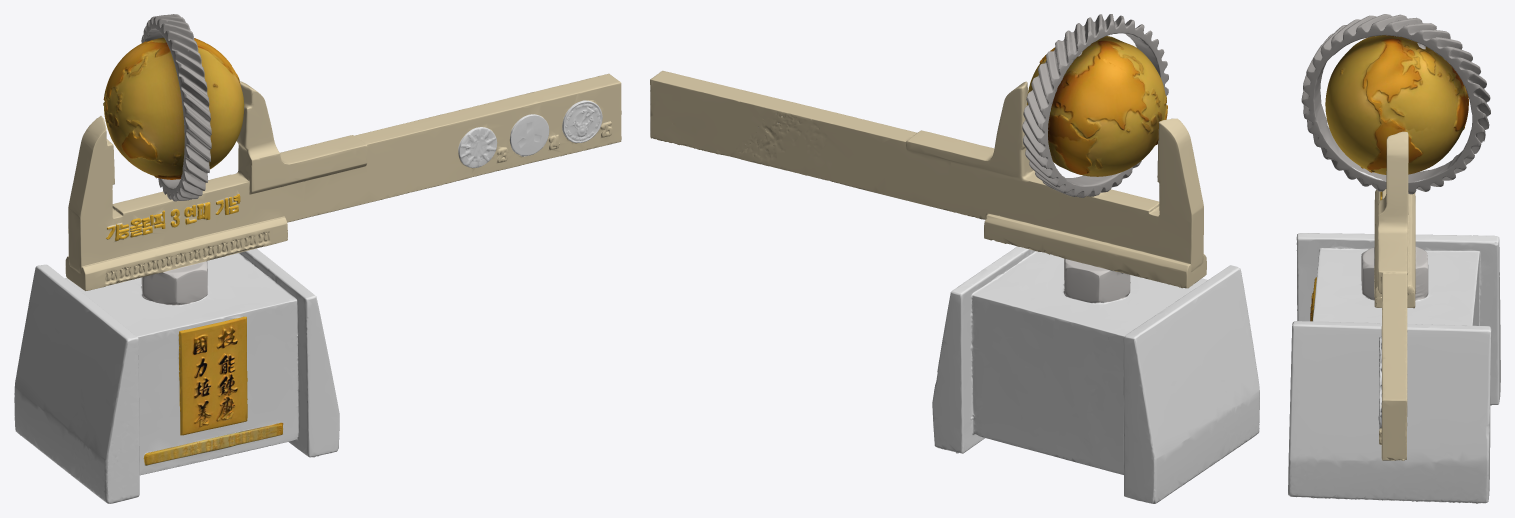
Rendered from PED0000051.glb.
The picture shows the model from 3 angles, left to right: view 1: azimuth 30°, elevation 25°; view 2: azimuth 150°, elevation 25°; view 3: azimuth 270°, elevation 25°; orthographic projection.
Visible parts, largest first — view 1: E_261_3_Deci1per03_UV:headusOBJexport.004; view 2: E_261_3_Deci1per03_UV:headusOBJexport.004; view 3: E_261_3_Deci1per03_UV:headusOBJexport.004.
Boxes of the visible parts, x1,y1,x2,y2 form: E_261_3_Deci1per03_UV:headusOBJexport.004: (14,14,621,503); E_261_3_Deci1per03_UV:headusOBJexport.004: (650,14,1259,503); E_261_3_Deci1per03_UV:headusOBJexport.004: (1288,14,1500,503).
Bounding box in the file's own units: 366 × 265 × 119.
9 materials, 8 textured.
